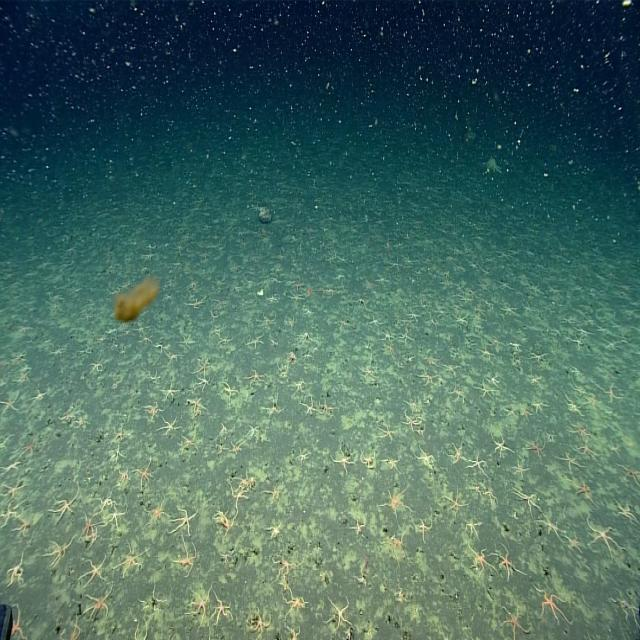brittle-stars: (533, 584, 568, 625), (587, 518, 618, 558), (500, 605, 527, 640), (614, 592, 640, 627), (495, 546, 520, 580), (85, 591, 113, 621), (328, 598, 353, 630), (514, 486, 540, 515), (120, 545, 144, 576), (174, 544, 198, 575), (539, 512, 563, 543), (217, 510, 240, 541), (188, 590, 210, 622), (138, 587, 166, 612), (383, 487, 408, 514), (172, 507, 195, 536), (523, 435, 546, 464), (53, 496, 78, 522), (282, 591, 308, 616), (274, 554, 297, 582), (333, 446, 356, 474), (46, 538, 69, 566), (84, 558, 108, 584), (570, 478, 594, 504), (470, 546, 492, 574), (212, 596, 232, 626), (1, 478, 26, 502), (5, 557, 24, 588), (444, 489, 465, 517), (249, 609, 270, 637), (11, 604, 27, 640), (0, 500, 18, 532), (386, 532, 406, 560), (558, 451, 582, 474), (146, 501, 168, 526), (616, 499, 638, 524), (230, 486, 250, 513), (136, 460, 155, 488), (600, 382, 624, 404), (15, 515, 35, 540), (0, 392, 22, 414), (564, 396, 585, 419), (490, 432, 510, 456), (467, 453, 487, 477), (106, 507, 126, 531), (577, 438, 599, 459), (619, 463, 640, 485), (478, 377, 498, 400), (525, 366, 545, 389), (266, 397, 285, 421), (448, 442, 466, 467), (185, 395, 206, 416), (568, 420, 590, 440), (564, 530, 582, 554), (246, 367, 266, 388), (416, 448, 435, 470), (18, 435, 37, 457), (462, 519, 480, 542), (161, 416, 180, 437), (404, 412, 422, 434), (180, 431, 198, 453), (220, 382, 238, 404), (417, 518, 433, 542), (96, 492, 115, 512), (163, 380, 180, 402), (245, 334, 265, 352), (418, 367, 436, 387), (0, 459, 21, 476), (302, 394, 318, 416), (126, 626, 151, 640), (237, 465, 251, 490), (382, 456, 401, 474), (512, 460, 530, 479), (30, 387, 49, 405), (528, 348, 546, 367), (267, 484, 284, 504), (112, 424, 129, 444), (191, 362, 208, 382), (319, 396, 335, 417), (380, 423, 396, 444), (479, 344, 495, 365), (0, 430, 14, 454), (184, 295, 206, 310), (195, 357, 212, 376), (358, 450, 374, 470), (83, 514, 96, 538), (484, 484, 498, 506), (359, 362, 377, 379), (144, 402, 160, 421), (450, 383, 466, 402), (351, 518, 366, 538), (268, 521, 283, 541), (67, 620, 82, 640), (116, 467, 130, 488), (178, 334, 195, 351), (119, 469, 132, 491), (146, 368, 161, 387), (398, 326, 413, 345), (110, 445, 125, 464), (425, 312, 440, 331), (519, 405, 533, 425), (383, 342, 397, 362), (287, 288, 304, 304), (85, 529, 101, 546), (260, 312, 277, 328), (295, 448, 310, 466), (58, 409, 76, 424), (197, 375, 213, 391), (90, 357, 105, 374), (531, 400, 546, 417), (246, 472, 258, 493), (167, 350, 182, 366), (277, 362, 289, 381), (292, 376, 306, 392), (215, 442, 229, 457), (286, 625, 300, 640), (210, 323, 225, 337), (216, 338, 233, 350), (406, 399, 420, 413), (232, 442, 244, 458), (382, 327, 394, 343), (247, 423, 259, 439), (586, 394, 598, 410), (140, 333, 153, 347), (569, 383, 583, 396), (74, 415, 85, 431), (214, 506, 227, 519), (304, 305, 315, 320), (395, 589, 405, 605), (356, 571, 366, 587), (424, 355, 436, 368), (290, 349, 299, 364), (445, 362, 458, 372), (157, 341, 167, 354), (301, 329, 310, 343), (50, 350, 64, 359), (366, 317, 378, 327), (547, 431, 556, 443), (488, 375, 499, 384), (356, 295, 364, 307), (337, 320, 347, 328)
